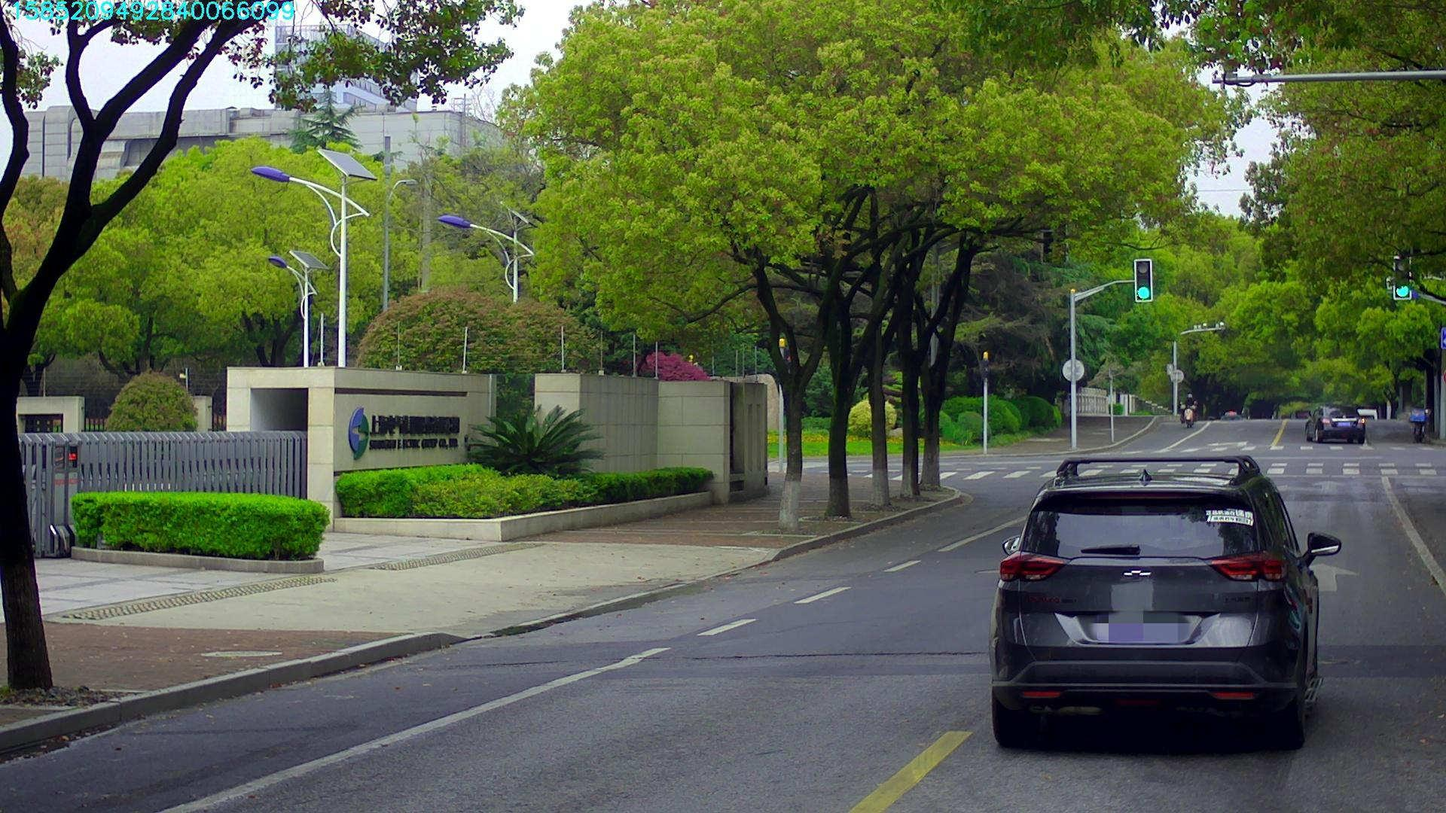green: (1134, 259, 1151, 300), (1394, 256, 1410, 299)
